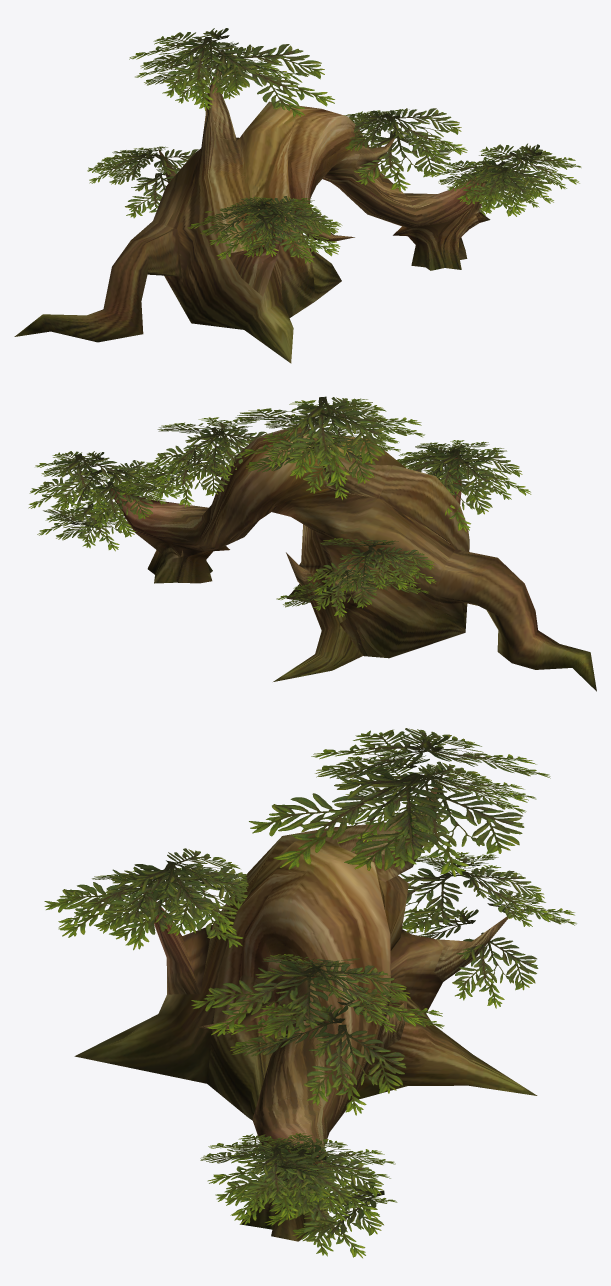
File: environment_Tree_Green_002_a.FBX
3 renders of one model, top to bottom at view 1: azimuth 30°, elevation 25°; view 2: azimuth 150°, elevation 25°; view 3: azimuth 270°, elevation 25°, orthographic. The views are drawn at different scales.
Visible parts, largest first — view 1: environment_Tree_Green_002_a, environment_Tree_Green_002_b; view 2: environment_Tree_Green_002_a, environment_Tree_Green_002_b; view 3: environment_Tree_Green_002_b, environment_Tree_Green_002_a.
Part boxes in pixels (left/top/right/bottom): environment_Tree_Green_002_a: left=14, top=50, right=490, bottom=363; environment_Tree_Green_002_b: left=87, top=28, right=581, bottom=263; environment_Tree_Green_002_a: left=106, top=427, right=596, bottom=691; environment_Tree_Green_002_b: left=28, top=396, right=531, bottom=617; environment_Tree_Green_002_b: left=44, top=728, right=576, bottom=1258; environment_Tree_Green_002_a: left=74, top=781, right=537, bottom=1241.
Size of the model in its own units: 2870 by 1778 by 1176.
